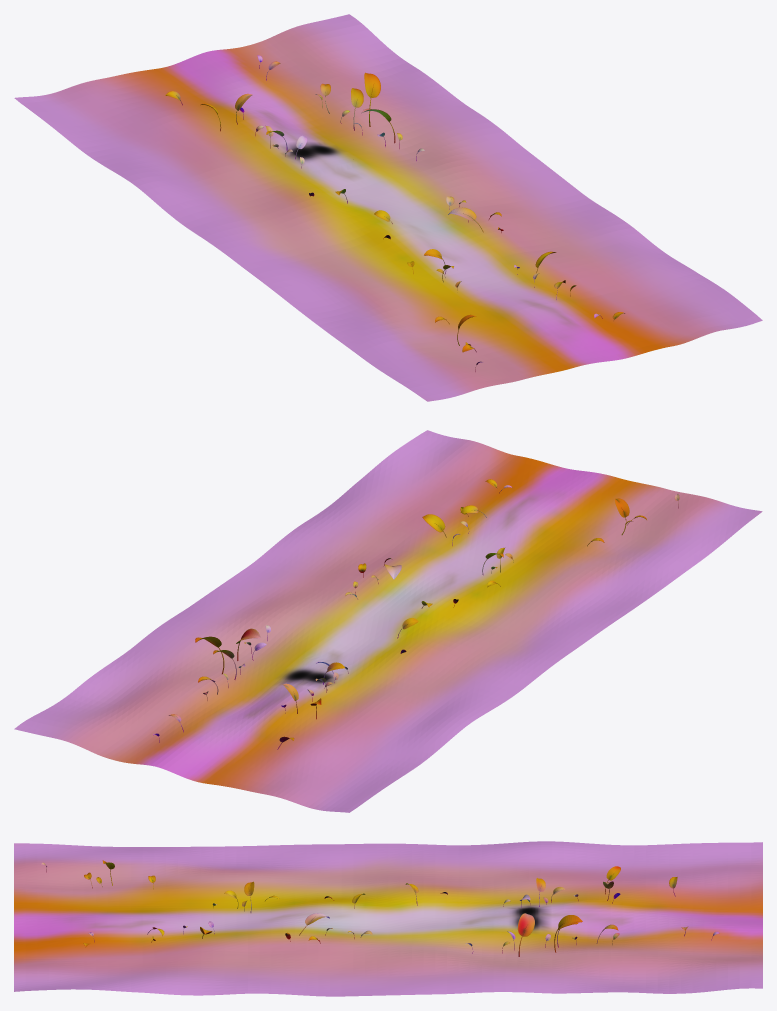
File: circular_landscape.glb
3 views of the same model, one above another, from view 1: azimuth 30°, elevation 25°; view 2: azimuth 150°, elevation 25°; view 3: azimuth 270°, elevation 25° (orthographic). The views are drawn at different scales.
Visible parts, largest first — view 1: sol, feuille; view 2: sol, feuille; view 3: sol, feuille.
Boxes of the visible parts, x1=… form: sol: x1=14, y1=14, x2=762, y2=401; feuille: x1=165, y1=55, x2=624, y2=371; sol: x1=14, y1=430, x2=762, y2=812; feuille: x1=153, y1=479, x2=679, y2=749; sol: x1=14, y1=841, x2=762, y2=996; feuille: x1=40, y1=860, x2=719, y2=956.
Bounding box in the file's own units: 37.67 × 6.26 × 80.44.
